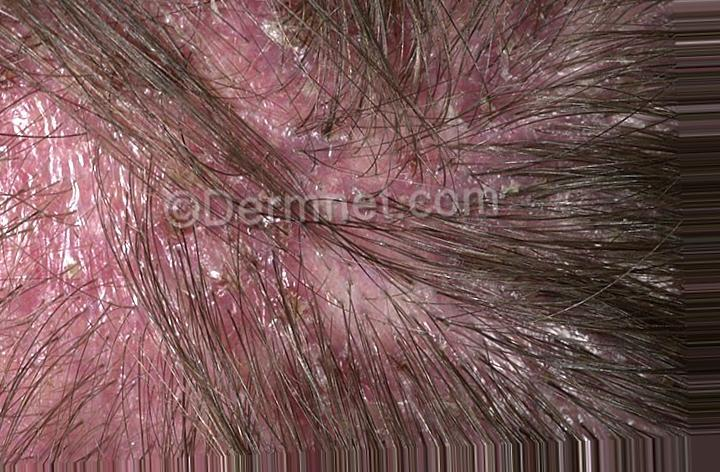Folliculitis: (56, 73, 434, 380)
